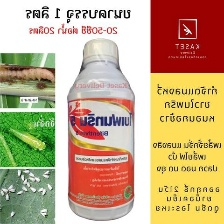insecticide: (66, 34, 137, 222)
